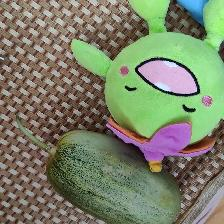gua: (62, 148, 182, 224)
